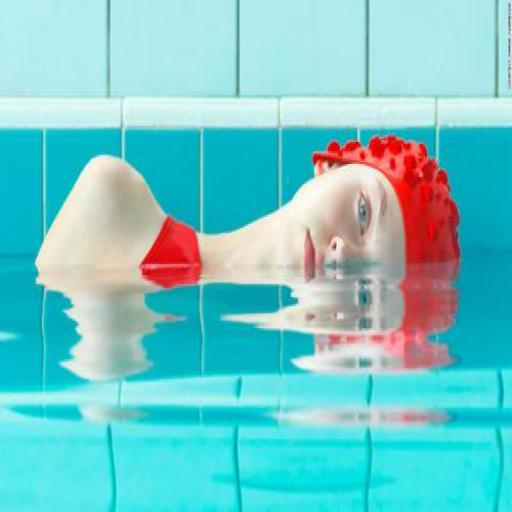swimming: (33, 131, 462, 290)
